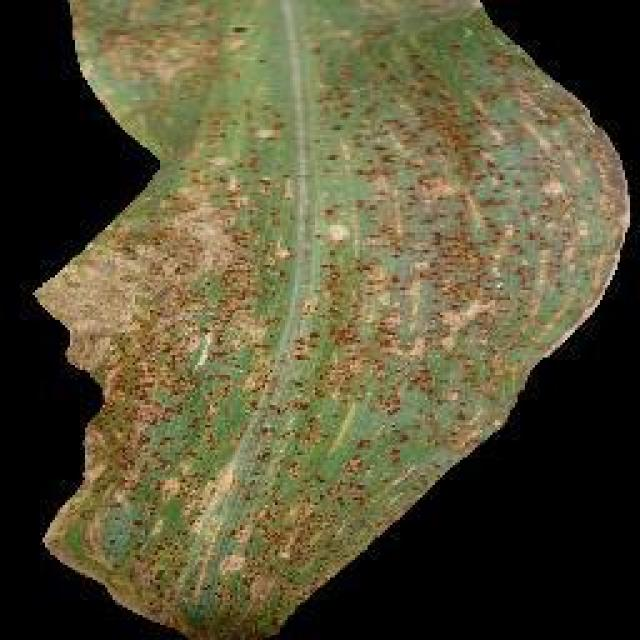Corn Common Rust: (150, 33, 563, 575)
